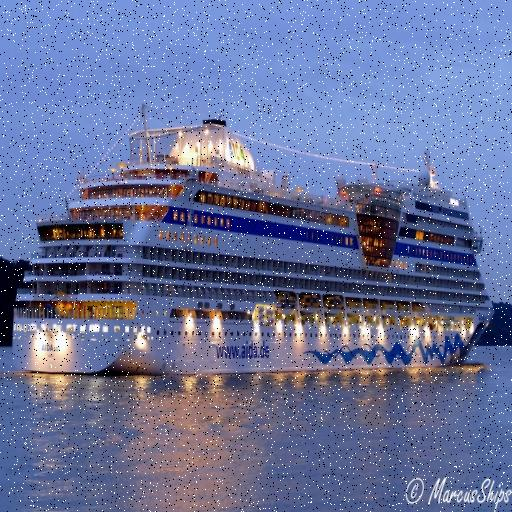cruises: (6, 81, 505, 379)
